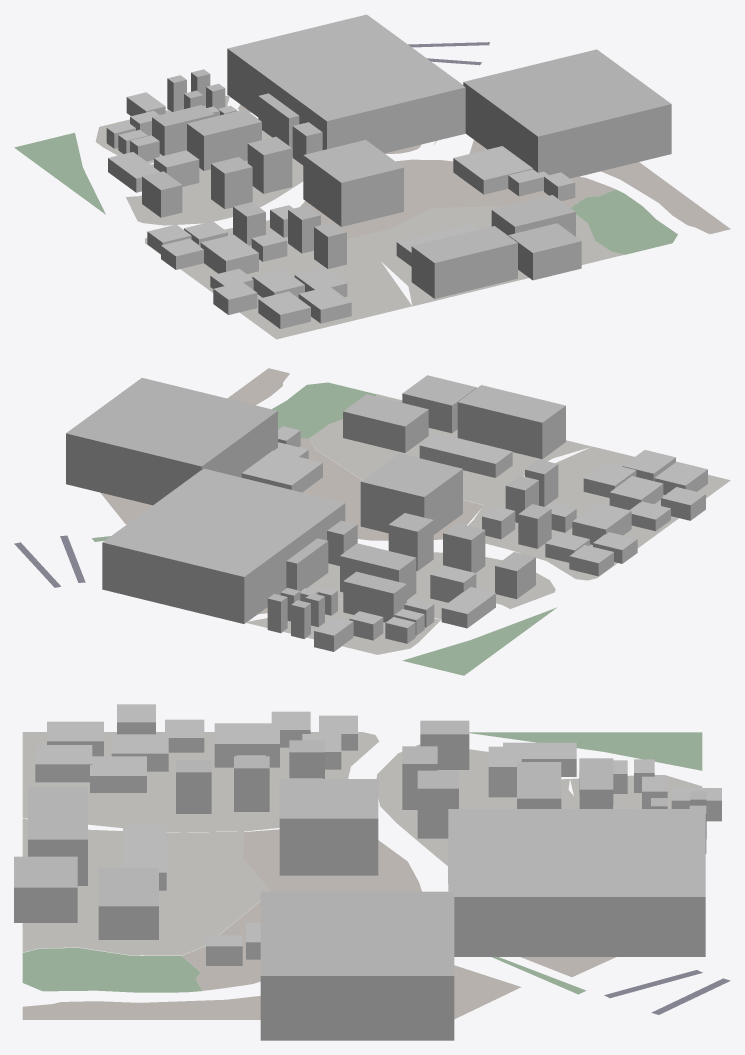
The model's file is 112_113_mid.glb.
3 views of the same model, one above another, from view 1: azimuth 30°, elevation 25°; view 2: azimuth 150°, elevation 25°; view 3: azimuth 270°, elevation 25° (orthographic). The views are drawn at different scales.
Size of the model in its own units: 549 by 52.92 by 528.
